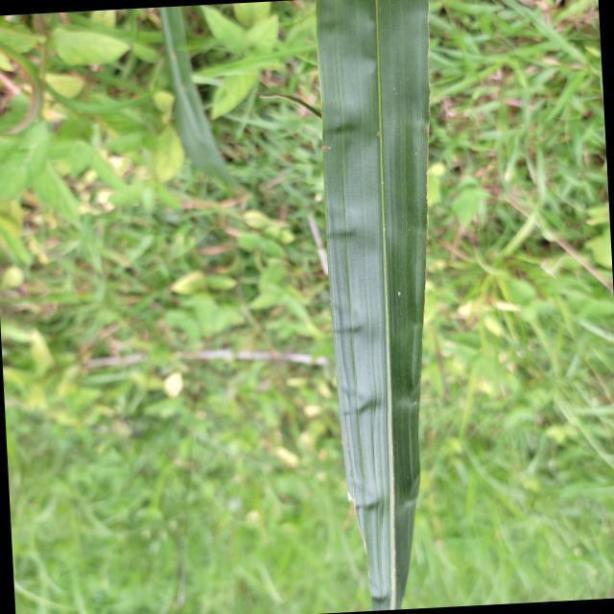Boron: (312, 0, 430, 614)
